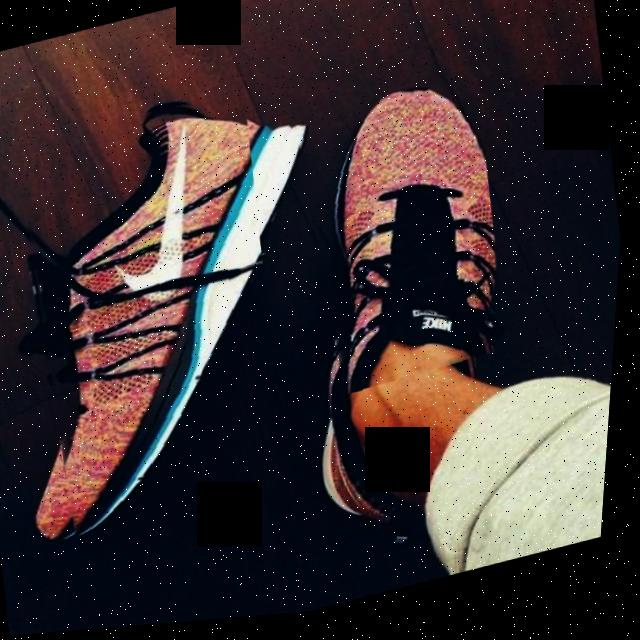shoe: (0, 83, 316, 548), (281, 76, 528, 408)
